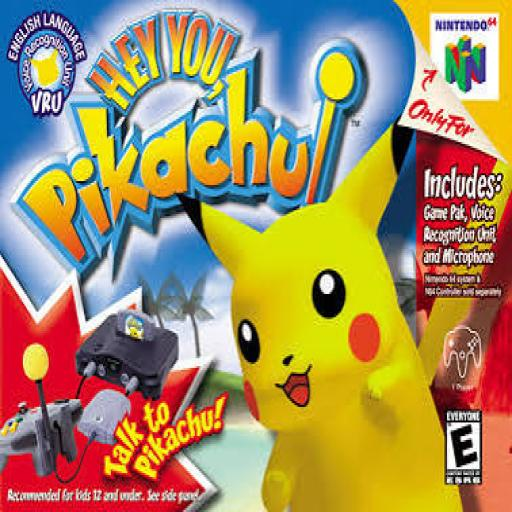Pikachu: (173, 114, 465, 512)
